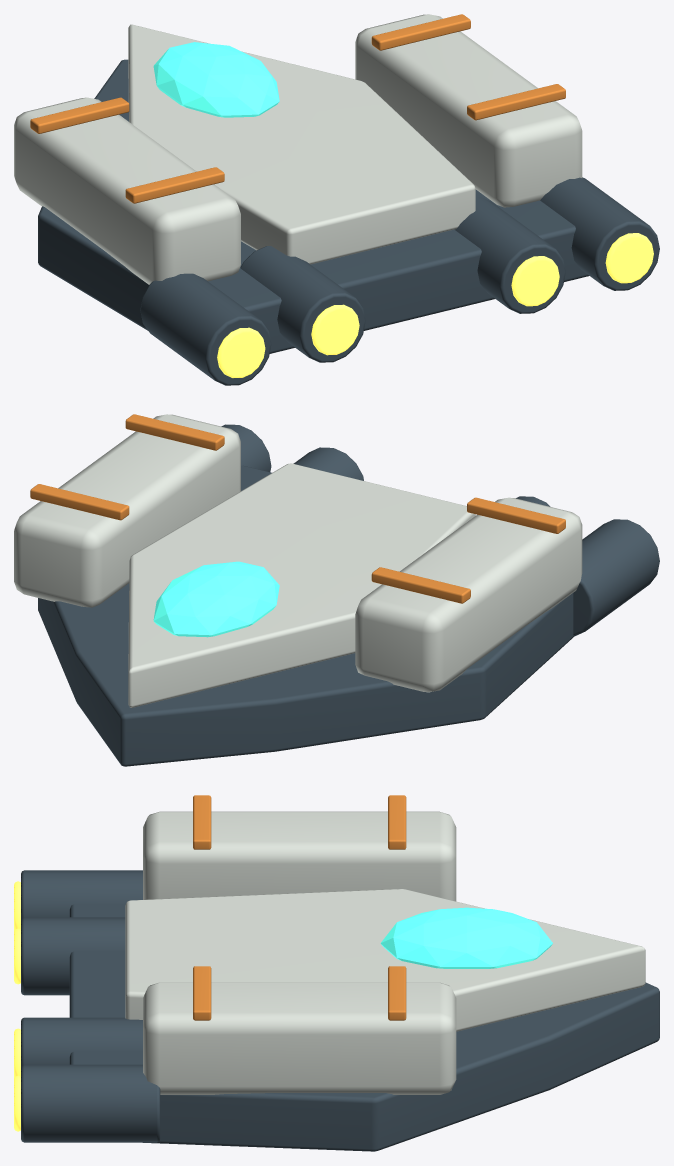
Rendered from albatross.glb.
The picture shows the model from 3 angles, top to bottom: view 1: azimuth 30°, elevation 25°; view 2: azimuth 150°, elevation 25°; view 3: azimuth 270°, elevation 25°; orthographic projection. The views are drawn at different scales.
Parts seen in each view (by area): view 1: Ceramic bridge armor, Cargo pod, Cargo pod.001, Broad hauler chassis, Hauler engine.001, Bridge canopy, Hauler engine, Hauler engine.003, Hauler engine.002, Hauler exhaust.002, Hauler exhaust.003, Hauler exhaust (+5 smaller); view 2: Ceramic bridge armor, Broad hauler chassis, Cargo pod, Cargo pod.001, Bridge canopy, Hauler engine.001, Cargo restraint.001, Cargo restraint.003, Cargo restraint.002, Cargo restraint, Hauler engine.002, Hauler engine.003; view 3: Ceramic bridge armor, Broad hauler chassis, Cargo pod.001, Cargo pod, Hauler engine.003, Bridge canopy, Hauler engine, Hauler engine.002, Hauler engine.001, Cargo restraint, Cargo restraint.001, Cargo restraint.002 (+1 smaller).
Boxes of the visible parts, x1,y1,x2,y2 form: Ceramic bridge armor: (128,24,475,264); Cargo pod: (14,97,240,284); Cargo pod.001: (355,14,582,207); Broad hauler chassis: (38,59,588,353); Hauler engine.001: (140,273,271,385); Bridge canopy: (153,42,279,117); Hauler engine: (240,246,365,362); Hauler engine.003: (540,177,659,290); Hauler engine.002: (454,196,565,313); Hauler exhaust.002: (511,256,559,306); Hauler exhaust.003: (605,233,653,283); Hauler exhaust: (311,304,359,355); Ceramic bridge armor: (128,463,475,707); Broad hauler chassis: (38,465,574,766); Cargo pod: (355,497,582,692); Cargo pod.001: (14,414,240,607); Bridge canopy: (153,561,279,637); Hauler engine.001: (573,519,659,636); Cargo restraint.001: (371,567,470,603); Cargo restraint.003: (30,484,129,520); Cargo restraint.002: (125,414,224,450); Cargo restraint: (467,497,565,533); Hauler engine.002: (293,447,363,480); Hauler engine.003: (221,424,271,471); Ceramic bridge armor: (125,889,645,1031); Broad hauler chassis: (69,904,659,1151); Cargo pod.001: (143,982,456,1094); Cargo pod: (143,811,456,901); Hauler engine.003: (21,1064,160,1142); Bridge canopy: (380,907,552,968); Hauler engine: (21,917,125,995); Hauler engine.002: (21,1017,142,1067); Hauler engine.001: (21,870,142,920); Cargo restraint: (193,795,211,849); Cargo restraint.001: (388,795,406,849); Cargo restraint.002: (193,966,211,1020).
Bounding box in the file's own units: 3.86 × 1.1 × 4.64.
